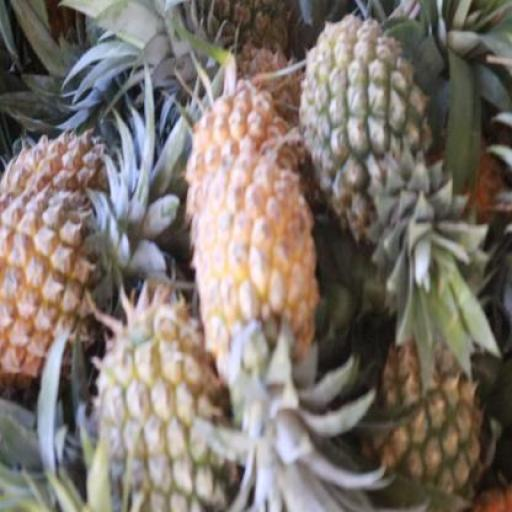------------------------------: (299, 16, 427, 214)
Pineapple - v8 v1: (197, 164, 311, 408), (0, 193, 102, 404)
